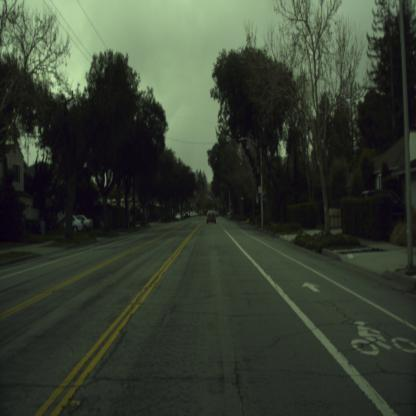Green: (210, 196, 212, 199), (218, 204, 219, 207)
Yellow: (205, 194, 206, 198)
